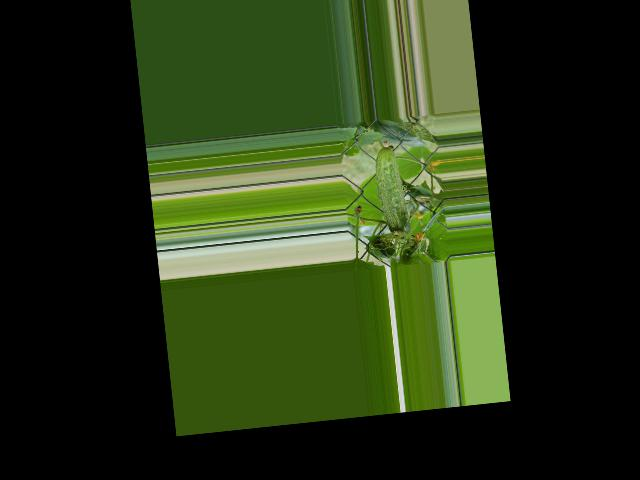cucumber: (372, 140, 410, 240)
